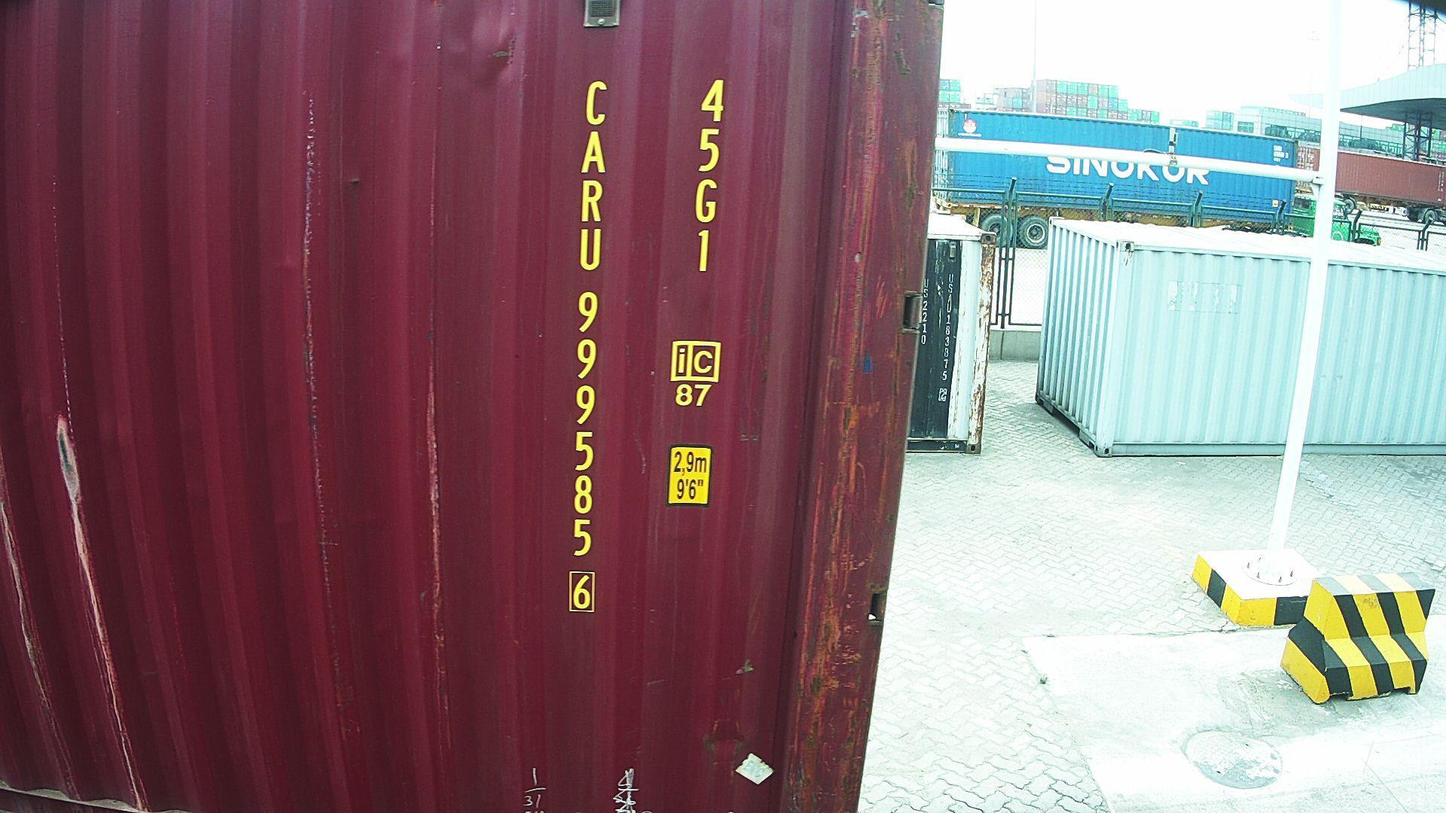container-numbers: (565, 72, 621, 624), (682, 76, 728, 283)
